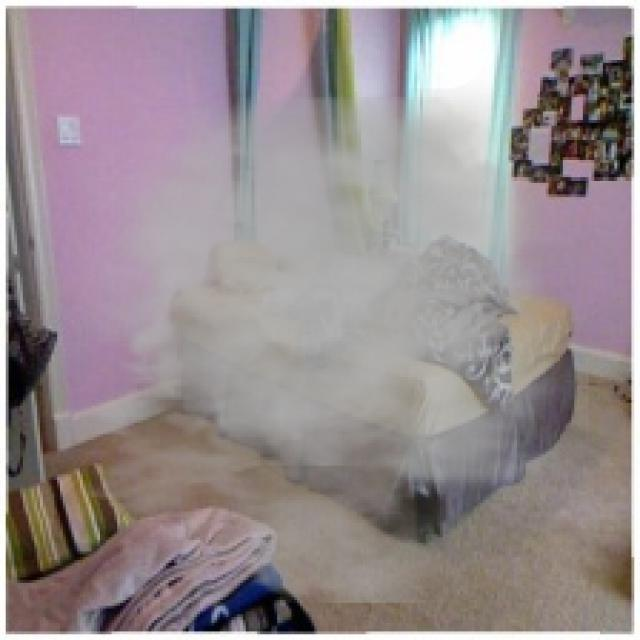Smoke: (29, 66, 588, 603)
